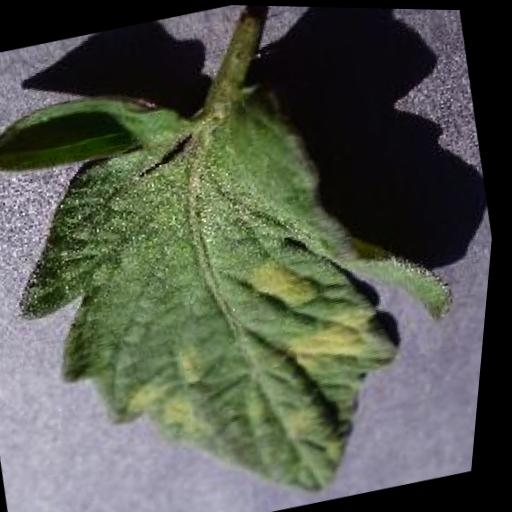Leaf Mold: (0, 17, 511, 512)
